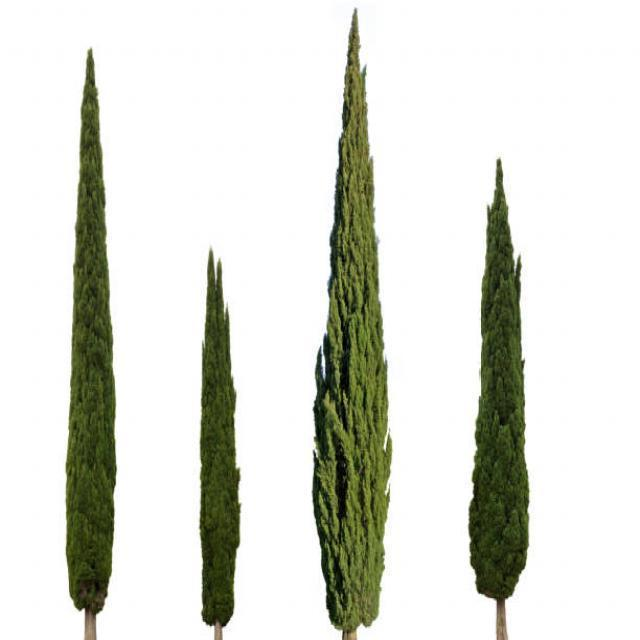tree: (318, 8, 390, 640), (58, 51, 124, 632), (472, 167, 528, 628), (194, 246, 240, 630)
